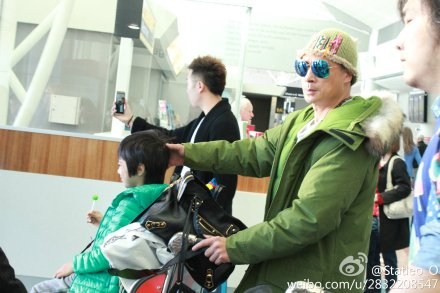other: (155, 26, 388, 290)
